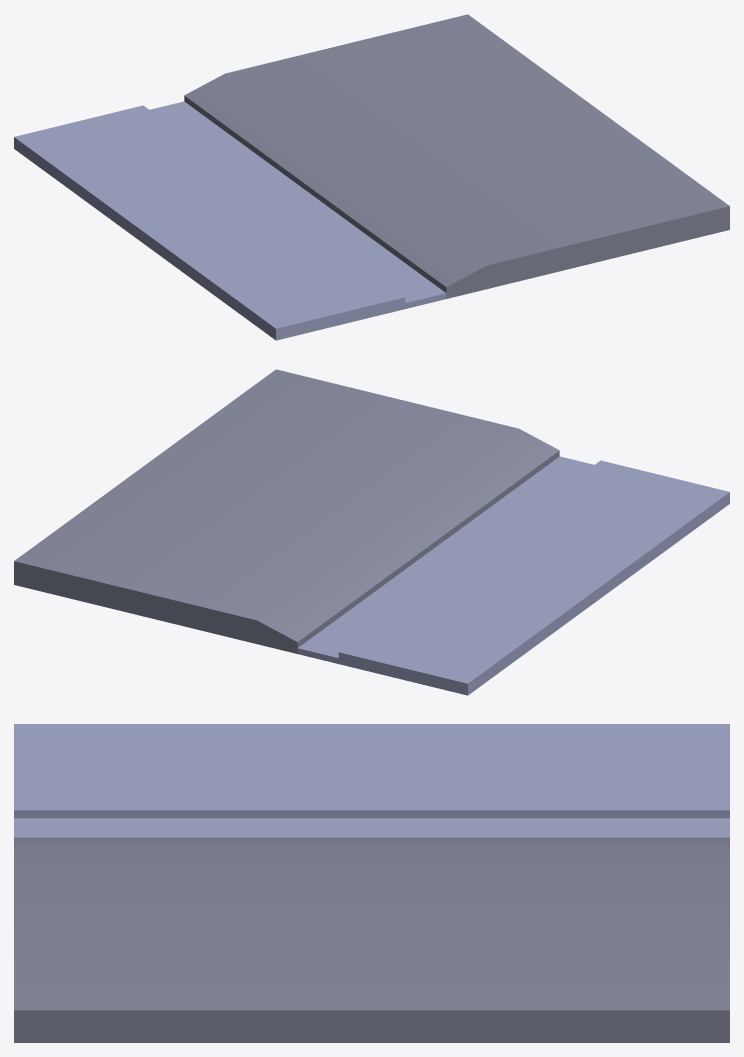
The model's file is road-edge.glb.
The picture shows the model from 3 angles, top to bottom: view 1: azimuth 30°, elevation 25°; view 2: azimuth 150°, elevation 25°; view 3: azimuth 270°, elevation 25°; orthographic projection. The views are drawn at different scales.
Visible parts, largest first — view 1: road-edge; view 2: road-edge; view 3: road-edge.
Part boxes in pixels (x1,y1,x2,y2): road-edge: (14, 14, 729, 340); road-edge: (14, 369, 729, 695); road-edge: (14, 724, 729, 1042).
Size of the model in its own units: 1 by 0.05 by 1.
Materials: 1 (1 with a texture image).
